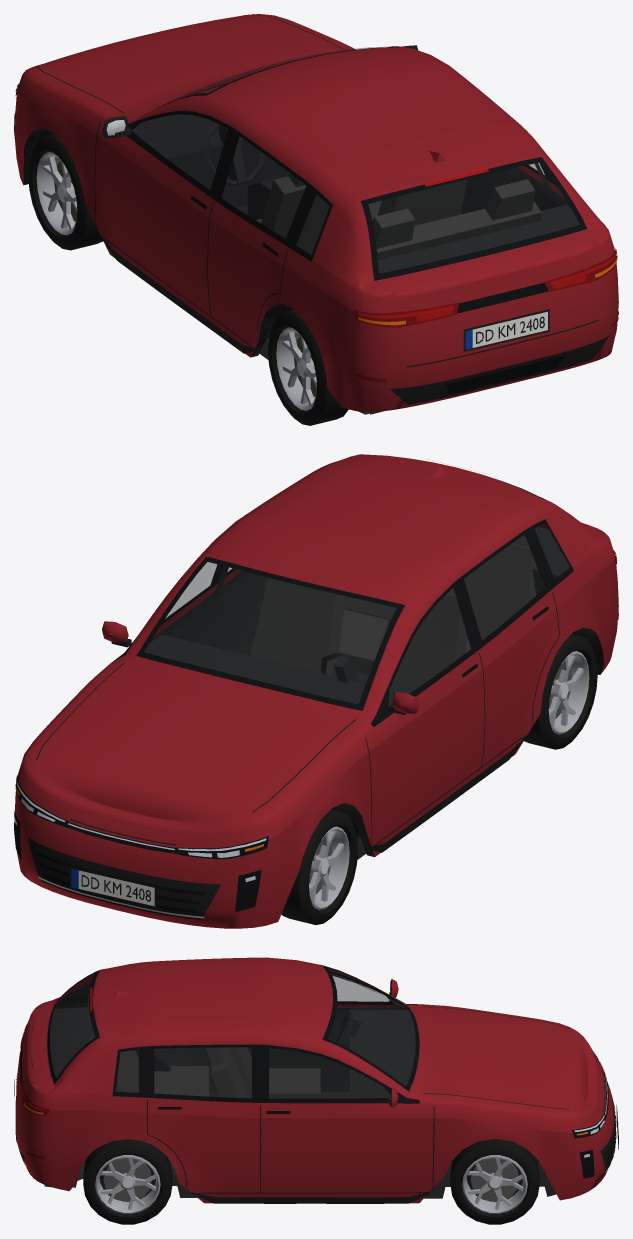
File: kompakt_modern.glb
The picture shows the model from 3 angles, top to bottom: view 1: azimuth 30°, elevation 25°; view 2: azimuth 150°, elevation 25°; view 3: azimuth 270°, elevation 25°; orthographic projection. The views are drawn at different scales.
Visible parts, largest first — view 1: Body, Glass, Interior, Tire_RL, Tire_FL, Lights, Rim_RL, Rim_FL; view 2: Body, Glass, Interior, Tire_FL, Tire_RL, Rim_FL, Rim_RL, Lights; view 3: Body, Glass, Interior, Tire_RR, Tire_FR, Rim_RR, Rim_FR, Lights.
Part boxes in pixels (x1,y1,x2,y2): Body: [14, 14, 618, 411]; Glass: [132, 47, 579, 273]; Interior: [131, 114, 606, 414]; Tire_RL: [268, 310, 348, 425]; Tire_FL: [28, 134, 102, 250]; Lights: [15, 83, 618, 382]; Rim_RL: [276, 327, 316, 410]; Rim_FL: [36, 152, 77, 235]; Body: [14, 454, 618, 928]; Glass: [144, 524, 569, 705]; Interior: [144, 527, 569, 837]; Tire_FL: [281, 809, 357, 924]; Tire_RL: [524, 634, 597, 749]; Rim_FL: [309, 826, 349, 909]; Rim_RL: [548, 651, 589, 734]; Lights: [14, 462, 618, 882]; Body: [14, 957, 618, 1203]; Glass: [50, 968, 415, 1098]; Interior: [44, 973, 415, 1186]; Tire_RR: [83, 1139, 172, 1224]; Tire_FR: [450, 1139, 539, 1224]; Rim_RR: [95, 1155, 160, 1213]; Rim_FR: [462, 1155, 527, 1213]; Lights: [20, 987, 607, 1158].
Bounding box in the file's own units: 2.01 × 1.46 × 4.33.
